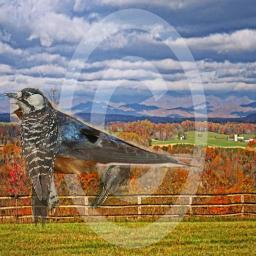Cuckoo: (89, 152, 138, 209)
Swallow: (10, 87, 201, 174)
Woodpecker: (2, 87, 74, 232)
